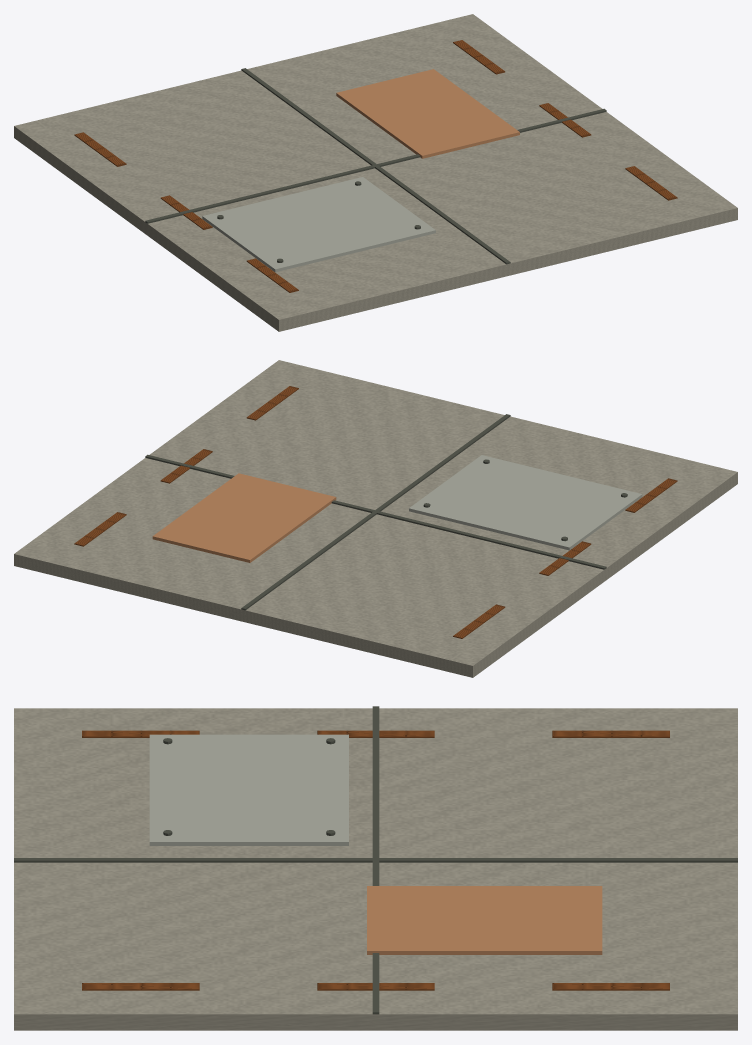
The model's file is reclamation-yard-patched-compound-road__220.glb.
3 views of the same model, one above another, from view 1: azimuth 30°, elevation 25°; view 2: azimuth 150°, elevation 25°; view 3: azimuth 270°, elevation 25° (orthographic). The views are drawn at different scales.
Visible parts, largest first — view 1: stone, metal, accent, dark, wood; view 2: stone, metal, accent, dark, wood; view 3: stone, metal, accent, dark, wood.
Boxes of the visible parts, x1,y1,x2,y2 form: stone: (14,14,737,331); metal: (202,177,435,272); accent: (336,69,519,158); dark: (145,68,606,264); wood: (74,40,677,292); stone: (14,360,737,677); metal: (409,455,642,550); accent: (152,473,336,562); dark: (145,414,627,610); wood: (74,386,677,638); stone: (14,708,737,1030); metal: (149,734,348,845); accent: (367,886,602,954); dark: (14,706,737,1014); wood: (82,730,669,990).
Bounding box in the file's own units: 4 × 0.14 × 4.
Materials: 5 (2 with a texture image).
